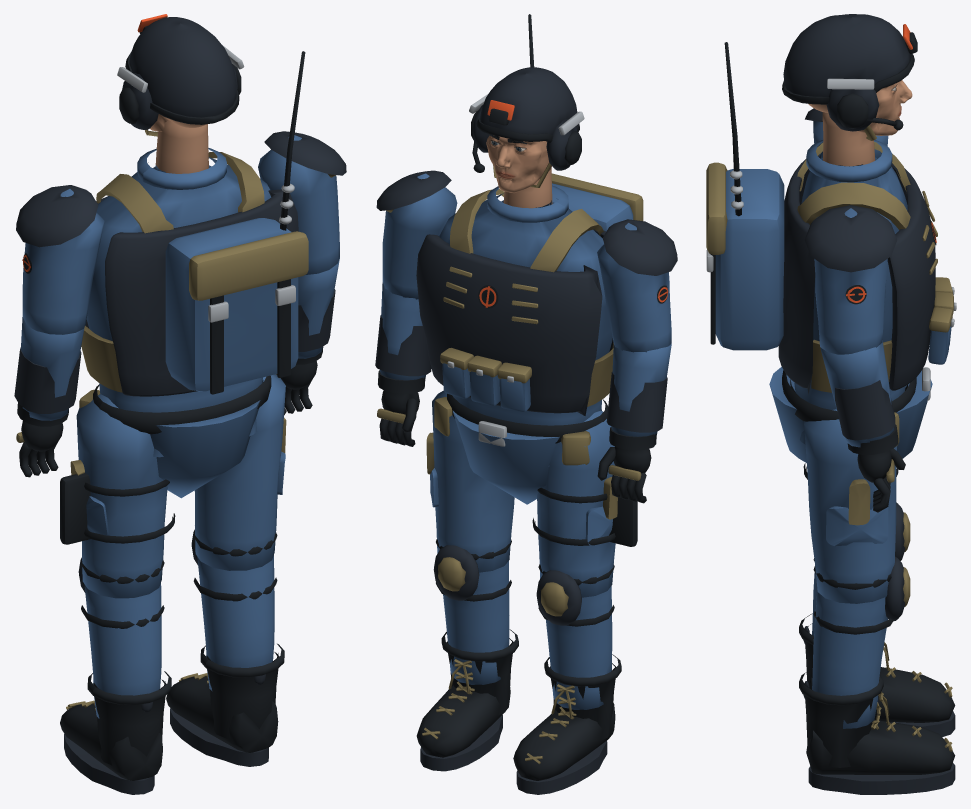
The model's file is kf-rifle.glb.
The picture shows the model from 3 angles, left to right: view 1: azimuth 30°, elevation 25°; view 2: azimuth 150°, elevation 25°; view 3: azimuth 270°, elevation 25°; orthographic projection. The views are drawn at different scales.
Visible parts, largest first — view 1: Torso Woven uniform, Leg_R Woven uniform, Torso Ceramic armor, Torso Webbing, Knee_L Rubber and hair, Leg_L Woven uniform, Knee_R Rubber and hair, Head Ceramic armor, Knee_R Woven uniform, Knee_L Woven uniform, Arm_R Woven uniform, Torso Rubber and hair (+13 smaller); view 2: Torso Ceramic armor, Torso Woven uniform, Torso Webbing, Leg_R Woven uniform, Knee_R Rubber and hair, Knee_L Rubber and hair, Leg_L Woven uniform, Head Ceramic armor, Arm_R Woven uniform, Knee_L Woven uniform, Knee_R Woven uniform, Arm_L Woven uniform (+18 smaller); view 3: Torso Woven uniform, Torso Ceramic armor, Knee_L Rubber and hair, Leg_L Woven uniform, Head Ceramic armor, Torso Webbing, Knee_L Woven uniform, Arm_L Woven uniform, Arm_L Ceramic armor, Knee_R Rubber and hair, Torso Rubber and hair, Elbow_L Ceramic armor (+11 smaller).
Part boxes in pixels (x1,y1,x2,y2): Torso Woven uniform: [86, 148, 298, 498]; Leg_R Woven uniform: [76, 394, 167, 598]; Torso Ceramic armor: [85, 189, 298, 396]; Torso Webbing: [79, 152, 308, 407]; Knee_L Rubber and hair: [166, 532, 284, 766]; Leg_L Woven uniform: [194, 374, 285, 570]; Knee_R Rubber and hair: [60, 560, 171, 794]; Head Ceramic armor: [119, 17, 241, 129]; Knee_R Woven uniform: [84, 583, 161, 718]; Knee_L Woven uniform: [197, 555, 274, 691]; Arm_R Woven uniform: [22, 189, 104, 334]; Torso Rubber and hair: [93, 51, 305, 434]; Torso Ceramic armor: [416, 229, 613, 415]; Torso Woven uniform: [439, 183, 633, 504]; Torso Webbing: [434, 173, 643, 465]; Leg_R Woven uniform: [537, 410, 615, 597]; Knee_R Rubber and hair: [513, 564, 621, 794]; Knee_L Rubber and hair: [416, 539, 518, 771]; Leg_L Woven uniform: [430, 390, 514, 572]; Head Ceramic armor: [471, 67, 581, 170]; Arm_R Woven uniform: [597, 223, 671, 352]; Knee_L Woven uniform: [443, 561, 509, 684]; Knee_R Woven uniform: [545, 586, 612, 709]; Arm_L Woven uniform: [382, 173, 457, 299]; Torso Woven uniform: [715, 140, 951, 462]; Torso Ceramic armor: [778, 155, 935, 395]; Knee_L Rubber and hair: [799, 566, 955, 794]; Leg_L Woven uniform: [804, 409, 896, 603]; Head Ceramic armor: [783, 14, 910, 131]; Torso Webbing: [706, 141, 953, 446]; Knee_L Woven uniform: [812, 590, 887, 728]; Arm_L Woven uniform: [814, 208, 887, 354]; Arm_L Ceramic armor: [804, 205, 897, 272]; Knee_R Rubber and hair: [799, 558, 955, 737]; Torso Rubber and hair: [710, 42, 936, 421]; Elbow_L Ceramic armor: [835, 380, 895, 440].
Size of the model in its own units: 0.8471 by 1.9 by 0.5833.
